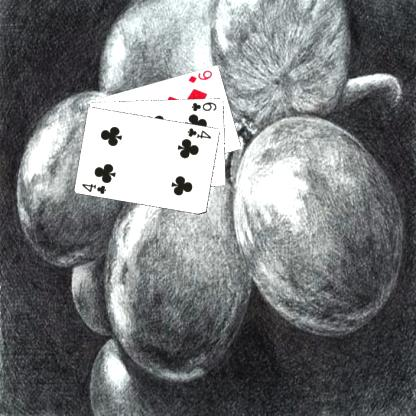4C: (79, 181, 108, 195), (185, 126, 213, 140)
6C: (189, 100, 218, 112)
9D: (186, 67, 214, 84)
